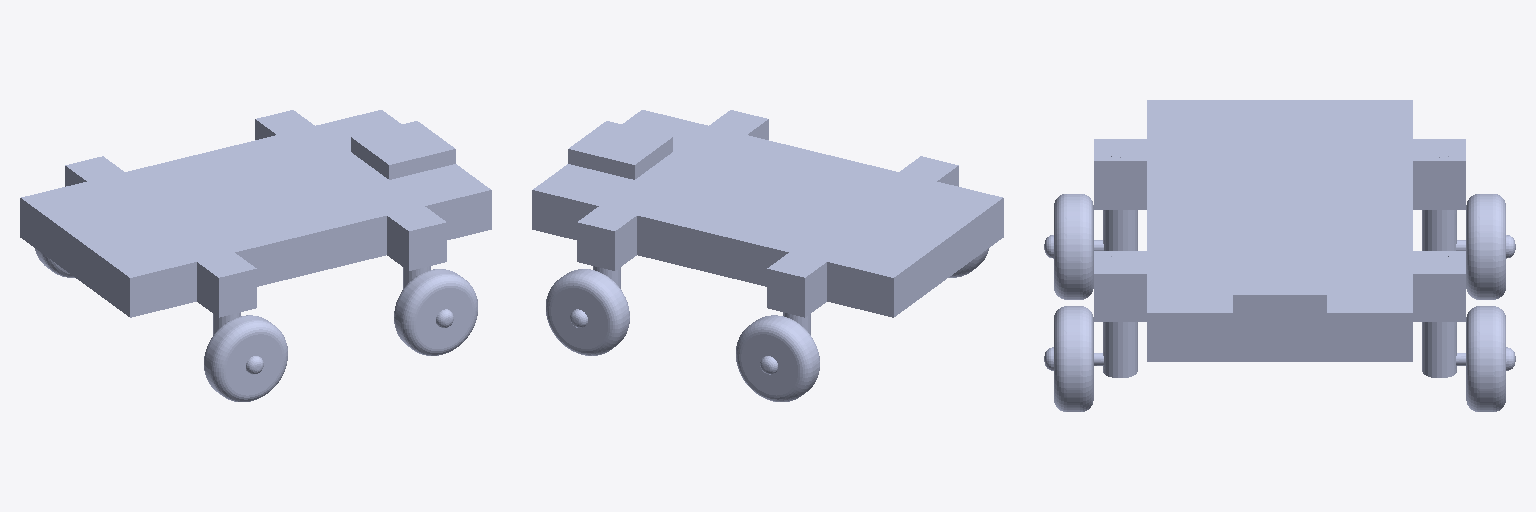
URDF robot description (assembly):
<?xml version="1.0" encoding="utf-8"?>
<!-- =================================================================================== -->
<!-- |    This document was autogenerated by xacro from addLidar.urdf.xacro            | -->
<!-- |    EDITING THIS FILE BY HAND IS NOT RECOMMENDED                                 | -->
<!-- =================================================================================== -->
<!-- Name your robot here -->
<robot name="assembly">
  <link name="dummy_link">
  </link>
  <joint name="dummy_joint" type="fixed">
    <origin rpy="0 0 0" xyz="0 0 0"/>
    <parent link="dummy_link"/>
    <child link="chassis"/>
  </joint>
  <!--  Robot's link joint configuration -->
  <!--  Chassis -->
  <link name="chassis">
    <inertial>
      <origin rpy="0 0 0" xyz="0.000744159637085476 1.60930290231754E-17 0.05014505880074"/>
      <mass value="55.5283642872583"/>
      <inertia ixx="1.39314287115487" ixy="3.30974963024618E-09" ixz="-2.89847336631015E-17" iyy="4.10839954331732" iyz="8.76782480682774E-17" izz="5.3950594544403"/>
    </inertial>
    <visual>
      <origin rpy="0 0 0" xyz="0 0 0"/>
      <geometry>
        <mesh filename="package://assembly/meshes/chassis.STL"/>
      </geometry>
      <material name="">
        <color rgba="0.792156862745098 0.819607843137255 0.933333333333333 1"/>
      </material>
    </visual>
    <collision>
      <origin rpy="0 0 0" xyz="0 0 0"/>
      <geometry>
        <mesh filename="package://assembly/meshes/chassis.STL"/>
      </geometry>
    </collision>
  </link>
  <!--  front L link - right side  -->
  <link name="front_right_l">
    <inertial>
      <origin rpy="0 0 0" xyz="5.1893866925834E-08 0.107093634831689 0.00781117722816765"/>
      <mass value="0.852105677556803"/>
      <inertia ixx="0.00479832499123549" ixy="-4.89398502173772E-10" ixz="-1.65487476018221E-09" iyy="0.00110015603634223" iyz="0.000543750783886359" izz="0.00413344110897024"/>
    </inertial>
    <visual>
      <origin rpy="0 0 0" xyz="0 0 0"/>
      <geometry>
        <mesh filename="package://assembly/meshes/front_right_l.STL"/>
      </geometry>
      <material name="">
        <color rgba="0.792156862745098 0.819607843137255 0.933333333333333 1"/>
      </material>
    </visual>
    <collision>
      <origin rpy="0 0 0" xyz="0 0 0"/>
      <geometry>
        <mesh filename="package://assembly/meshes/front_right_l.STL"/>
      </geometry>
    </collision>
  </link>
  <!--  joint for front L link - right side  -->
  <joint name="front_right_l_joint" type="revolute">
    <origin rpy="1.5708 0 0" xyz="0.254 -0.3048 -0.127"/>
    <parent link="chassis"/>
    <child link="front_right_l"/>
    <axis xyz="0 1 0"/>
    <limit effort="100" lower="-0.35" upper="0.35" velocity="100"/>
  </joint>
  <!--  front wheel - right side  -->
  <link name="front_right_wheel">
    <inertial>
      <origin rpy="0 0 0" xyz="-1.11022302462516E-16 2.77555756156289E-17 0.0381"/>
      <mass value="2.26560269598157"/>
      <inertia ixx="0.00660120143259285" ixy="0" ixz="1.31248186205734E-19" iyy="0.00660120143259285" iyz="1.26384475178406E-21" izz="0.0112040471146044"/>
    </inertial>
    <visual>
      <origin rpy="0 0 0" xyz="0 0 0"/>
      <geometry>
        <mesh filename="package://assembly/meshes/front_right_wheel.STL"/>
      </geometry>
      <material name="">
        <color rgba="0.792156862745098 0.819607843137255 0.933333333333333 1"/>
      </material>
    </visual>
    <collision>
      <origin rpy="0 0 0" xyz="0 0 0"/>
      <geometry>
        <mesh filename="package://assembly/meshes/front_right_wheel.STL"/>
      </geometry>
    </collision>
  </link>
  <!--  joint for front wheel - right side  -->
  <joint name="front_right_wheel_joint" type="continuous">
    <origin rpy="0 0 -0.024741" xyz="0 0.0254 0.0508"/>
    <parent link="front_right_l"/>
    <child link="front_right_wheel"/>
    <axis xyz="0 0 1"/>
  </joint>
  <!--  joint for front L link - left side  -->
  <link name="front_left_l">
    <inertial>
      <origin rpy="0 0 0" xyz="5.1893866925834E-08 0.107093634831689 0.00781117722816771"/>
      <mass value="0.852105677556803"/>
      <inertia ixx="0.00479832499123549" ixy="-4.89398502200207E-10" ixz="-1.65487476023193E-09" iyy="0.00110015603634223" iyz="0.000543750783886359" izz="0.00413344110897025"/>
    </inertial>
    <visual>
      <origin rpy="0 0 0" xyz="0 0 0"/>
      <geometry>
        <mesh filename="package://assembly/meshes/front_left_l.STL"/>
      </geometry>
      <material name="">
        <color rgba="0.792156862745098 0.819607843137255 0.933333333333333 1"/>
      </material>
    </visual>
    <collision>
      <origin rpy="0 0 0" xyz="0 0 0"/>
      <geometry>
        <mesh filename="package://assembly/meshes/front_left_l.STL"/>
      </geometry>
    </collision>
  </link>
  <!--  joint for front L link - left side  -->
  <joint name="front_left_l_joint" type="revolute">
    <origin rpy="1.5708 0 3.1416" xyz="0.254 0.3048 -0.127"/>
    <parent link="chassis"/>
    <child link="front_left_l"/>
    <axis xyz="0 1 0"/>
    <limit effort="100" lower="-0.35" upper="0.35" velocity="100"/>
  </joint>
  <!--  front wheel - left side  -->
  <link name="front_left_wheel">
    <inertial>
      <origin rpy="0 0 0" xyz="-1.11022302462516E-16 1.38777878078145E-17 -0.0381"/>
      <mass value="2.26560269598157"/>
      <inertia ixx="0.00660120143259285" ixy="8.13151629364128E-20" ixz="4.23883291827655E-21" iyy="0.00660120143259285" iyz="2.14843133185249E-21" izz="0.0112040471146044"/>
    </inertial>
    <visual>
      <origin rpy="0 0 0" xyz="0 0 0"/>
      <geometry>
        <mesh filename="package://assembly/meshes/front_left_wheel.STL"/>
      </geometry>
      <material name="">
        <color rgba="0.792156862745098 0.819607843137255 0.933333333333333 1"/>
      </material>
    </visual>
    <collision>
      <origin rpy="0 0 0" xyz="0 0 0"/>
      <geometry>
        <mesh filename="package://assembly/meshes/front_left_wheel.STL"/>
      </geometry>
    </collision>
  </link>
  <!--  joint for front wheel - left side  -->
  <joint name="front_left_wheel_joint" type="continuous">
    <origin rpy="3.14159265358979 0 -3.11082059956038" xyz="0 0.0254 0.0508"/>
    <parent link="front_left_l"/>
    <child link="front_left_wheel"/>
    <axis xyz="0 0 1"/>
  </joint>
  <!--  rear wheel  - right side  -->
  <link name="rear_right_wheel">
    <inertial>
      <origin rpy="0 0 0" xyz="1.66533453693773E-16 0 0.0381"/>
      <mass value="2.26560269598157"/>
      <inertia ixx="0.00660120143259285" ixy="-2.31114385000839E-37" ixz="2.15146368602617E-21" iyy="0.00660120143259285" iyz="-8.01505102733865E-36" izz="0.0112040471146044"/>
    </inertial>
    <visual>
      <origin rpy="0 0 0" xyz="0 0 0"/>
      <geometry>
        <mesh filename="package://assembly/meshes/rear_right_wheel.STL"/>
      </geometry>
      <material name="">
        <color rgba="0.792156862745098 0.819607843137255 0.933333333333333 1"/>
      </material>
    </visual>
    <collision>
      <origin rpy="0 0 0" xyz="0 0 0"/>
      <geometry>
        <mesh filename="package://assembly/meshes/rear_right_wheel.STL"/>
      </geometry>
    </collision>
  </link>
  <!--  joint for rear wheel  - right side  -->
  <joint name="rear_right_wheel_joint" type="continuous">
    <origin rpy="1.5708 0 0" xyz="-0.254 -0.3556 -0.1016"/>
    <parent link="chassis"/>
    <child link="rear_right_wheel"/>
    <axis xyz="0 0 1"/>
  </joint>
  <!--  rear wheel  - left side  -->
  <link name="rear_left_wheel">
    <inertial>
      <origin rpy="0 0 0" xyz="5.55111512312578E-17 0 -0.0381"/>
      <mass value="2.26560269598157"/>
      <inertia ixx="0.00660120143259285" ixy="-2.71050543121376E-20" ixz="-1.30703425505789E-19" iyy="0.00660120143259285" iyz="2.36261582717238E-21" izz="0.0112040471146044"/>
    </inertial>
    <visual>
      <origin rpy="0 0 0" xyz="0 0 0"/>
      <geometry>
        <mesh filename="package://assembly/meshes/rear_left_wheel.STL"/>
      </geometry>
      <material name="">
        <color rgba="0.792156862745098 0.819607843137255 0.933333333333333 1"/>
      </material>
    </visual>
    <collision>
      <origin rpy="0 0 0" xyz="0 0 0"/>
      <geometry>
        <mesh filename="package://assembly/meshes/rear_left_wheel.STL"/>
      </geometry>
    </collision>
  </link>
  <!--  joint for rear wheel  - left side  -->
  <joint name="rear_left_wheel_joint" type="continuous">
    <origin rpy="1.5708 -0.032757 0" xyz="-0.254 0.3556 -0.1016"/>
    <parent link="chassis"/>
    <child link="rear_left_wheel"/>
    <axis xyz="0 0 1"/>
  </joint>
  <!--  Transmission and Gazebo Control Plugin -->
  <gazebo>
    <plugin filename="libgazebo_ros_control.so" name="gazebo_ros_control">
      <robotNamespace>/assembly</robotNamespace>
      <robotSimType>gazebo_ros_control/DefaultRobotHWSim</robotSimType>
      <legacyModeNS>true</legacyModeNS>
    </plugin>
  </gazebo>
  <transmission name="left_l_transmission">
    <type>transmission_interface/SimpleTransmission</type>
    <joint name="front_left_l_joint">
      <hardwareInterface>hardware_interface/EffortJointInterface</hardwareInterface>
    </joint>
    <actuator name="left_l_transmission_motor">
      <hardwareInterface>hardware_interface/EffortJointInterface</hardwareInterface>
      <mechanicalReduction>1</mechanicalReduction>
    </actuator>
  </transmission>
  <transmission name="left_wheel_transmission">
    <type>transmission_interface/SimpleTransmission</type>
    <joint name="rear_left_wheel_joint">
      <hardwareInterface>hardware_interface/EffortJointInterface</hardwareInterface>
    </joint>
    <actuator name="left_wheel_transmission_motor">
      <hardwareInterface>hardware_interface/EffortJointInterface</hardwareInterface>
      <mechanicalReduction>1</mechanicalReduction>
    </actuator>
  </transmission>
  <transmission name="right_l_transmission">
    <type>transmission_interface/SimpleTransmission</type>
    <joint name="front_right_l_joint">
      <hardwareInterface>hardware_interface/EffortJointInterface</hardwareInterface>
    </joint>
    <actuator name="right_l_transmission_motor">
      <hardwareInterface>hardware_interface/EffortJointInterface</hardwareInterface>
      <mechanicalReduction>1</mechanicalReduction>
    </actuator>
  </transmission>
  <transmission name="right_wheel_transmission">
    <type>transmission_interface/SimpleTransmission</type>
    <joint name="rear_right_wheel_joint">
      <hardwareInterface>hardware_interface/EffortJointInterface</hardwareInterface>
    </joint>
    <actuator name="right_wheel_transmission_motor">
      <hardwareInterface>hardware_interface/EffortJointInterface</hardwareInterface>
      <mechanicalReduction>1</mechanicalReduction>
    </actuator>
  </transmission>
  <link name="base_laser">
    <inertial>
      <origin rpy="0 0 0" xyz="-0.00029774 0.0066667 0.00013047"/>
      <mass value="0.15717"/>
      <inertia ixx="6.7885E-05" ixy="-1.3987E-07" ixz="-8.1554E-07" iyy="0.00013173" iyz="-9.0932E-08" izz="7.1972E-05"/>
    </inertial>
    <visual>
      <origin rpy="0 0 0" xyz="0 0 0"/>
      <geometry>
        <mesh filename="package://assembly/meshes/ydlidar.dae"/>
      </geometry>
      <material name="">
        <color rgba="0.64706 0.61961 0.58824 1"/>
      </material>
    </visual>
    <collision>
      <origin rpy="0 0 0" xyz="0 0 0"/>
      <geometry>
        <mesh filename="package://assembly/meshes/ydlidar.dae"/>
      </geometry>
    </collision>
  </link>
  <link name="laser_frame">
    <inertial>
      <origin rpy="0 0 0" xyz="-0.00036659 0.00064155 -0.00027052"/>
      <mass value="0.25482"/>
      <inertia ixx="8.9194E-05" ixy="1.8116E-07" ixz="3.6435E-08" iyy="0.00018279" iyz="2.423E-07" izz="0.00011103"/>
    </inertial>
    <!--visual>
      <origin
        xyz="0 0 0"
        rpy="0 0 0" />
      <geometry>
        <mesh
          filename="package://assembly/meshes/ydlidar.dae" />
      </geometry>
      <material
        name="">
        <color
          rgba="0.64706 0.61961 0.58824 1" />
      </material>
    </visual-->
    <!--collision>
      <origin
        xyz="0 0 0"
        rpy="0 0 0" />
      <geometry>
        <mesh
          filename="package://assembly/meshes/ydlidar.dae" />
      </geometry>
    </collision-->
  </link>
  <joint name="laser_joint" type="fixed">
    <origin rpy="0 0 0" xyz="0 0 0.03172"/>
    <parent link="base_laser"/>
    <child link="laser_frame"/>
    <axis xyz="0 0 0"/>
  </joint>
  <!-- Add your gazebo sensors here -->
  <gazebo reference="base_laser">
    <!-- <gravity>true</gravity> -->
    <!-- Gazebo has fixed set of Sensors types. Check them out here <> -->
    <sensor name="laser" type="ray">
      <!-- Add in your sensor characteristics -->
      <pose> 0 0 0 0 0 0 </pose>
      <visualise>true</visualise>
      <update_rate>40</update_rate>
      <!-- <always_on>true</always_on> -->
      <ray>
        <scan>
          <horizontal>
            <samples>720</samples>
            <resolution>1</resolution>
            <min_angle>-1.570796</min_angle>
            <max_angle>1.570796</max_angle>
          </horizontal>
        </scan>
        <range>
          <min>0.10</min>
          <max>30.0</max>
          <resolution>0.01</resolution>
        </range>
        <noise>
          <type>gaussian</type>
          <mean>0.0</mean>
          <stddev>0.01</stddev>
        </noise>
      </ray>
      <plugin filename="libgazebo_ros_laser.so" name="gazebo_ros_head_hokuyo_controller">
        <!-- Use topic name as /my_robot/scan -->
        <topicName>/my_robot/scan</topicName>
        <frameName>laser_frame</frameName>
      </plugin>
    </sensor>
  </gazebo>
  <!-- Create a joint between your robot and sensor -->
  <joint name="joint_sensor_laser" type="fixed">
    <origin rpy="0 0 3.14" xyz="-0.44 0.0 0.138"/>
    <parent link="chassis"/>
    <child link="base_laser"/>
  </joint>
</robot>

--- Facts derived from the render (not from the file) ---
The picture shows the robot from 3 angles, left to right: view 1: azimuth 30°, elevation 25°; view 2: azimuth 150°, elevation 25°; view 3: azimuth 270°, elevation 25°; orthographic projection.
Model assembly with 10 links and 9 joints (2 revolute, 4 continuous, 3 fixed), rooted at dummy_link, posed every joint at zero.
Visible links, largest first — view 1: chassis, front_right_wheel, rear_right_wheel, front_right_l; view 2: chassis, front_left_wheel, rear_left_wheel, front_left_l; view 3: chassis, rear_right_wheel, rear_left_wheel, front_right_wheel, front_left_wheel, front_right_l, front_left_l.
Link boxes in pixels (x1,y1,x2,y2): chassis: (20, 110, 491, 374); front_right_wheel: (394, 269, 477, 355); rear_right_wheel: (204, 315, 287, 401); front_right_l: (403, 213, 453, 327); chassis: (532, 110, 1003, 374); front_left_wheel: (546, 269, 629, 355); rear_left_wheel: (736, 315, 819, 401); front_left_l: (570, 213, 620, 327); chassis: (1044, 100, 1515, 361); rear_right_wheel: (1054, 194, 1093, 299); rear_left_wheel: (1466, 194, 1505, 299); front_right_wheel: (1054, 306, 1093, 411); front_left_wheel: (1466, 306, 1505, 411); front_right_l: (1044, 255, 1137, 377); front_left_l: (1422, 255, 1515, 377).
Bounding box of the posed robot: 0.9652 × 0.8992 × 0.3429 m (x, y, z).
7 mesh visuals loaded from 8 distinct referenced files (7 binary STL); not drawn: 1 (reference not matched to a file when rendering).
